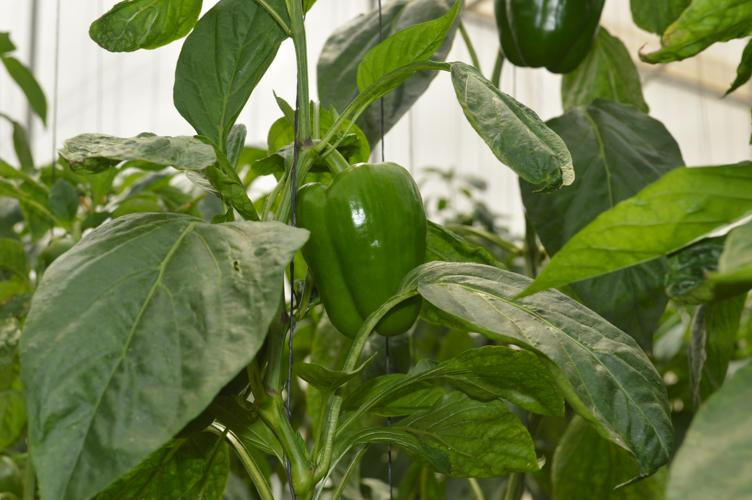BellPepper: (288, 163, 429, 335), (494, 1, 597, 79)
